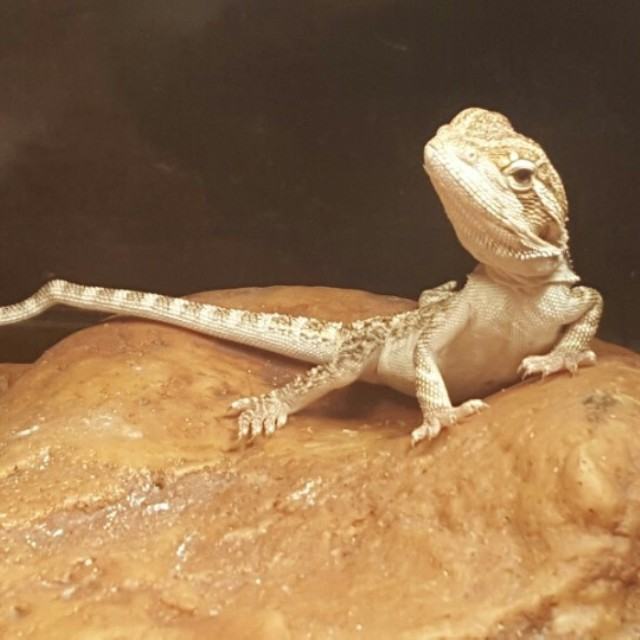bearded: (1, 103, 605, 449)
